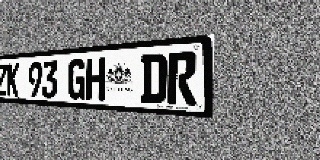3: (42, 60, 57, 98)
9: (28, 61, 42, 98)
D: (141, 53, 167, 104)
G: (68, 59, 86, 100)
H: (85, 57, 105, 101)
K: (7, 63, 19, 97)
R: (167, 51, 197, 105)
Z: (0, 64, 8, 96)
